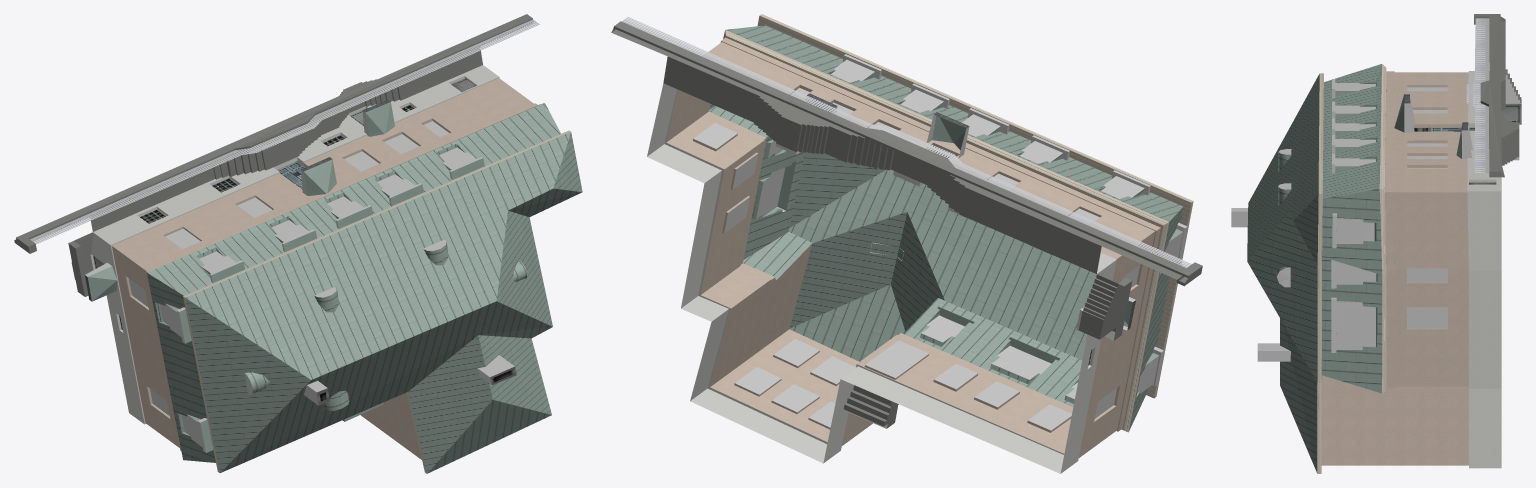
Rendered from Falgi_tee_4_1.obj.
The picture shows the model from 3 angles, left to right: view 1: azimuth 30°, elevation 25°; view 2: azimuth 150°, elevation 25°; view 3: azimuth 270°, elevation 25°; orthographic projection. The views are drawn at different scales.
Visible parts, largest first — view 1: Falgi_tee_4_1; view 2: Falgi_tee_4_1; view 3: Falgi_tee_4_1.
Part boxes in pixels (x1,y1,x2,y2): Falgi_tee_4_1: (14, 14, 582, 473); Falgi_tee_4_1: (611, 14, 1202, 473); Falgi_tee_4_1: (1231, 14, 1521, 473).
Bounding box in the file's own units: 30.03 × 19.54 × 14.13.
